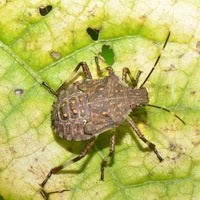insect: (43, 32, 169, 140)
